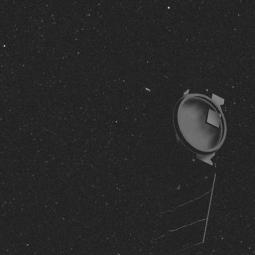proba_3_csc: (136, 65, 235, 255)
